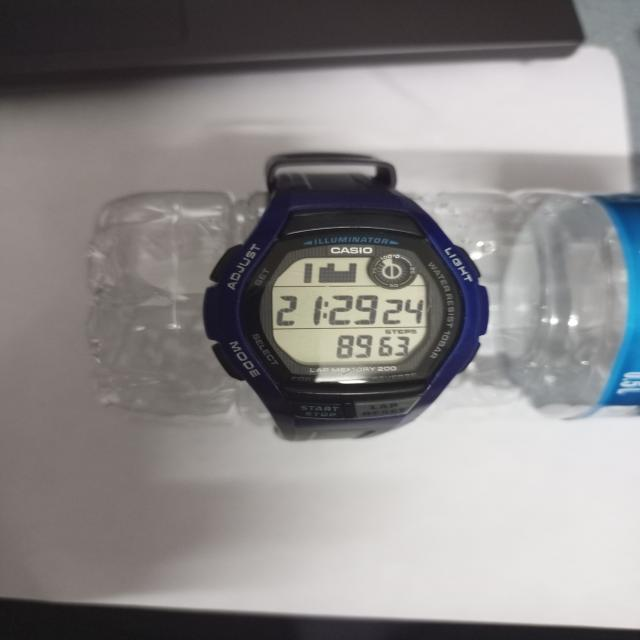watch: (202, 192, 486, 428)
